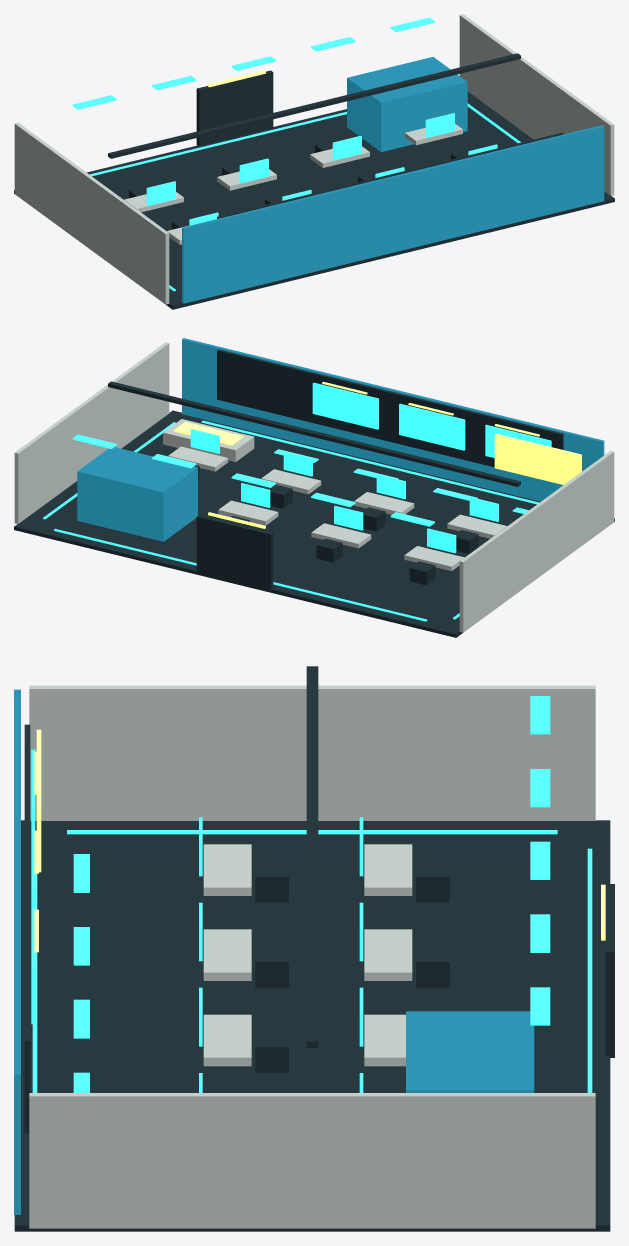
File: office-floor.glb
The picture shows the model from 3 angles, top to bottom: view 1: azimuth 30°, elevation 25°; view 2: azimuth 150°, elevation 25°; view 3: azimuth 270°, elevation 25°; orthographic projection. The views are drawn at different scales.
Visible parts, largest first — view 1: rj-office-floor-interior-rear-glass-wall, rj-office-floor-interior-raised-interior-floor, rj-office-floor-interior-left-wall-frame, rj-office-floor-interior-right-wall-frame, rj-office-floor-interior-quiet-meeting-room, rj-office-floor-interior-exit-door-frame, rj-office-floor-interior-ceiling-spine, rj-office-floor-interior-screen-wall-backplane, rj-office-floor-interior-front-wayfinding-rail, rj-office-floor-interior-monitor-1-4, rj-office-floor-interior-monitor-1-1, rj-office-floor-interior-monitor-1-3 (+5 smaller); view 2: rj-office-floor-interior-raised-interior-floor, rj-office-floor-interior-left-wall-frame, rj-office-floor-interior-rear-glass-wall, rj-office-floor-interior-right-wall-frame, rj-office-floor-interior-screen-wall-backplane, rj-office-floor-interior-quiet-meeting-room, rj-office-floor-interior-exit-door-frame, rj-office-floor-interior-floor-kpi-wall, rj-office-floor-interior-ceiling-spine, rj-office-floor-interior-main-display-3, rj-office-floor-interior-main-display-2, rj-office-floor-interior-agent-rest-pod (+23 smaller); view 3: rj-office-floor-interior-raised-interior-floor, rj-office-floor-interior-right-wall-frame, rj-office-floor-interior-left-wall-frame, rj-office-floor-interior-quiet-meeting-room, rj-office-floor-interior-ceiling-spine, rj-office-floor-interior-rear-glass-wall, rj-office-floor-interior-screen-wall-backplane, rj-office-floor-interior-desk-2-3, rj-office-floor-interior-desk-1-1, rj-office-floor-interior-desk-1-2, rj-office-floor-interior-desk-2-1, rj-office-floor-interior-desk-2-2 (+14 smaller).
Boxes of the visible parts, x1,y1,x2,y2 form: rj-office-floor-interior-rear-glass-wall: (182,125,604,303); rj-office-floor-interior-raised-interior-floor: (14,91,614,309); rj-office-floor-interior-left-wall-frame: (14,122,169,304); rj-office-floor-interior-right-wall-frame: (459,14,614,195); rj-office-floor-interior-quiet-meeting-room: (347,57,467,152); rj-office-floor-interior-exit-door-frame: (196,70,273,146); rj-office-floor-interior-ceiling-spine: (108,53,520,158); rj-office-floor-interior-screen-wall-backplane: (217,132,563,218); rj-office-floor-interior-front-wayfinding-rail: (89,111,346,176); rj-office-floor-interior-monitor-1-4: (425,113,454,137); rj-office-floor-interior-monitor-1-1: (146,181,175,205); rj-office-floor-interior-monitor-1-3: (332,135,361,160); rj-office-floor-interior-raised-interior-floor: (14,410,614,637); rj-office-floor-interior-left-wall-frame: (459,451,614,632); rj-office-floor-interior-rear-glass-wall: (182,338,604,501); rj-office-floor-interior-right-wall-frame: (14,342,169,523); rj-office-floor-interior-screen-wall-backplane: (217,349,563,467); rj-office-floor-interior-quiet-meeting-room: (77,447,197,541); rj-office-floor-interior-exit-door-frame: (196,515,273,590); rj-office-floor-interior-floor-kpi-wall: (494,433,581,484); rj-office-floor-interior-ceiling-spine: (108,381,520,486); rj-office-floor-interior-main-display-3: (312,382,378,429); rj-office-floor-interior-main-display-2: (399,403,465,450); rj-office-floor-interior-agent-rest-pod: (163,419,254,461); rj-office-floor-interior-raised-interior-floor: (14,820,610,1231); rj-office-floor-interior-right-wall-frame: (29,1093,595,1228); rj-office-floor-interior-left-wall-frame: (29,685,595,820); rj-office-floor-interior-quiet-meeting-room: (406,1011,534,1092); rj-office-floor-interior-ceiling-spine: (306,666,318,1047); rj-office-floor-interior-rear-glass-wall: (14,689,20,1214); rj-office-floor-interior-screen-wall-backplane: (24,724,30,1132); rj-office-floor-interior-desk-2-3: (203,1014,251,1066); rj-office-floor-interior-desk-1-1: (364,844,412,895); rj-office-floor-interior-desk-1-2: (364,929,412,980); rj-office-floor-interior-desk-2-1: (203,844,251,895); rj-office-floor-interior-desk-2-2: (203,929,251,980).
Size of the model in its own units: 16.64 by 3.31 by 10.29.
